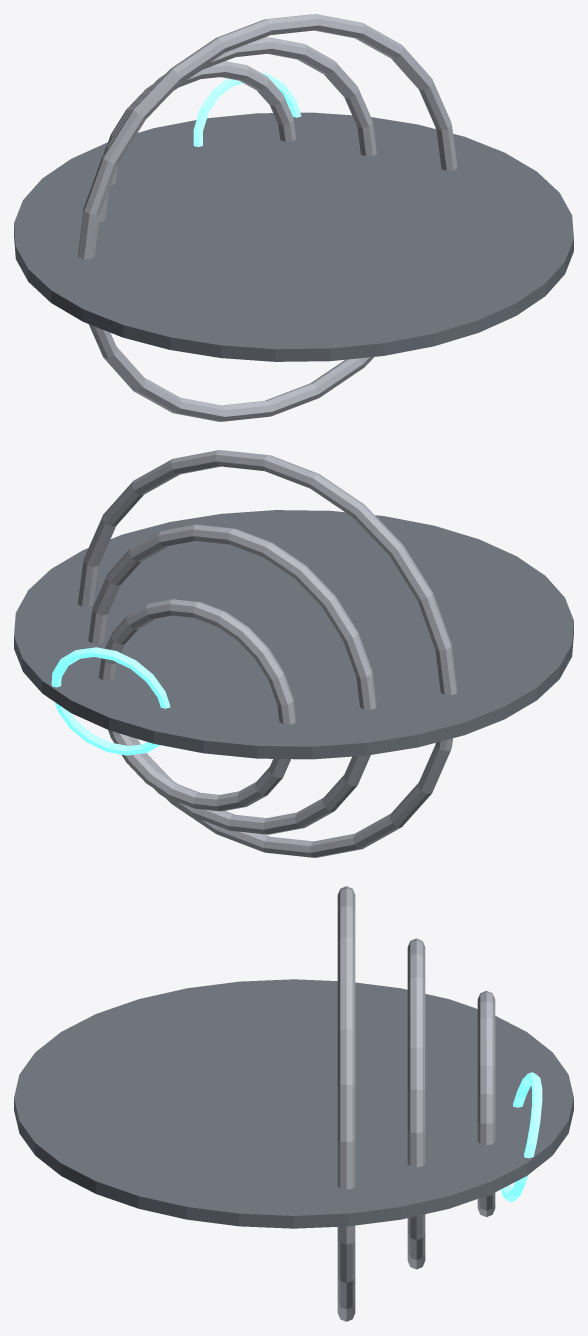
The model's file is chain-rule-diorama.glb.
The picture shows the model from 3 angles, top to bottom: view 1: azimuth 30°, elevation 25°; view 2: azimuth 150°, elevation 25°; view 3: azimuth 270°, elevation 25°; orthographic projection.
Visible parts, largest first — view 1: Platform, RingLeaf, RingMid, RingOutput, Halo; view 2: Platform, RingLeaf, RingMid, RingOutput, Halo; view 3: Platform, RingLeaf, RingMid, RingOutput, Halo.
Part boxes in pixels (<box>): Platform: <box>14,112,573,361</box>; RingLeaf: <box>77,14,457,421</box>; RingMid: <box>99,37,376,222</box>; RingOutput: <box>107,61,296,185</box>; Halo: <box>193,72,301,146</box>; Platform: <box>14,510,573,759</box>; RingLeaf: <box>78,450,457,857</box>; RingMid: <box>88,524,376,834</box>; RingOutput: <box>98,599,296,811</box>; Halo: <box>51,647,170,755</box>; Platform: <box>14,979,573,1228</box>; RingLeaf: <box>337,886,355,1321</box>; RingMid: <box>407,938,425,1269</box>; RingOutput: <box>477,990,495,1217</box>; Halo: <box>501,1072,542,1202</box>.
Size of the model in its own units: 3.2 by 2.5 by 3.2.
